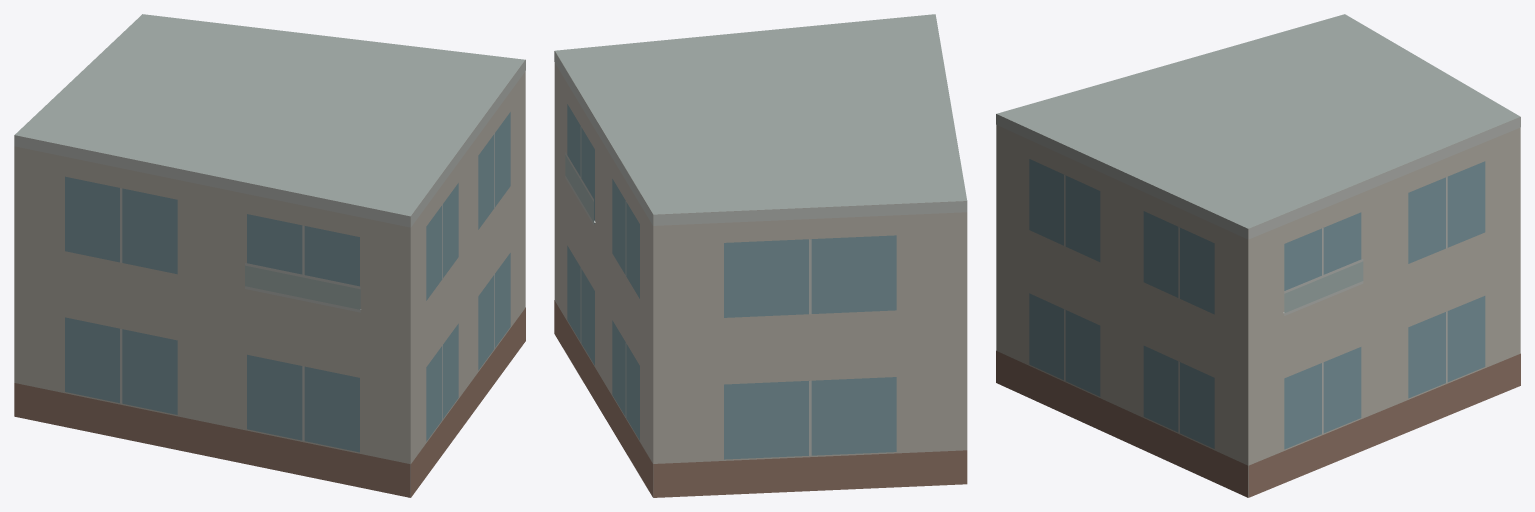
Rendered from survey-upis-32650057.glb.
3 views of the same model, side by side, from view 1: azimuth 30°, elevation 25°; view 2: azimuth 150°, elevation 25°; view 3: azimuth 270°, elevation 25° (orthographic). The views are drawn at different scales.
Parts seen in each view (by area): view 1: survey-upis-32650057.tmp; view 2: survey-upis-32650057.tmp; view 3: survey-upis-32650057.tmp.
Part boxes in pixels (x1,y1,x2,y2): survey-upis-32650057.tmp: [14, 14, 525, 497]; survey-upis-32650057.tmp: [554, 14, 967, 497]; survey-upis-32650057.tmp: [996, 14, 1520, 497].
Bounding box in the file's own units: 10.46 × 6.1 × 10.79.
